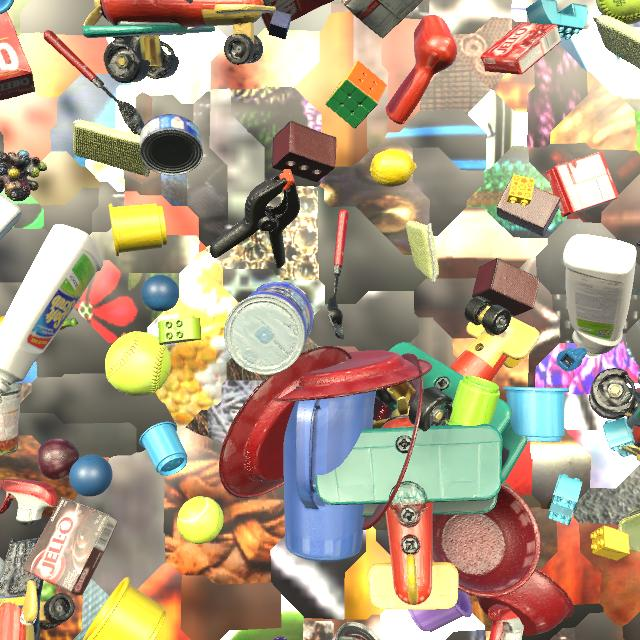ycb_002_master_chef_can: (224, 281, 314, 375)
ycb_003_cracker_box: (0, 11, 35, 101), (261, 0, 334, 31)
ycb_004_sugar_box: (175, 26, 207, 36)
ycb_005_tomato_soup_can: (0, 383, 21, 456), (332, 622, 380, 640)
ycb_007_tuna_fish_can: (140, 114, 203, 175)
ycb_008_pudding_box: (22, 497, 118, 596), (340, 0, 423, 38), (185, 0, 193, 3)
ycb_009_gelatin_box: (545, 152, 619, 217), (481, 23, 561, 75)
ycb_010_potted_meat_can: (618, 509, 640, 552)
ycb_011_banana: (0, 316, 78, 331)
ycb_014_lemon: (370, 149, 417, 187)
ycb_018_plum: (37, 438, 79, 480)
